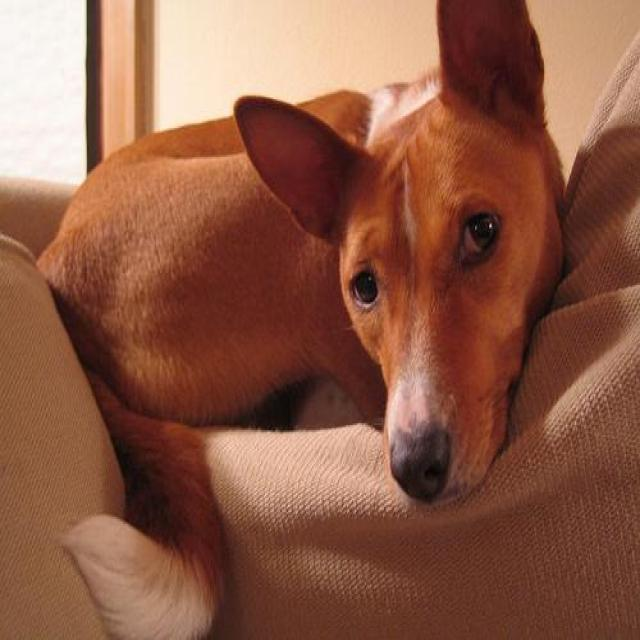adult_dog: (41, 4, 567, 640)
